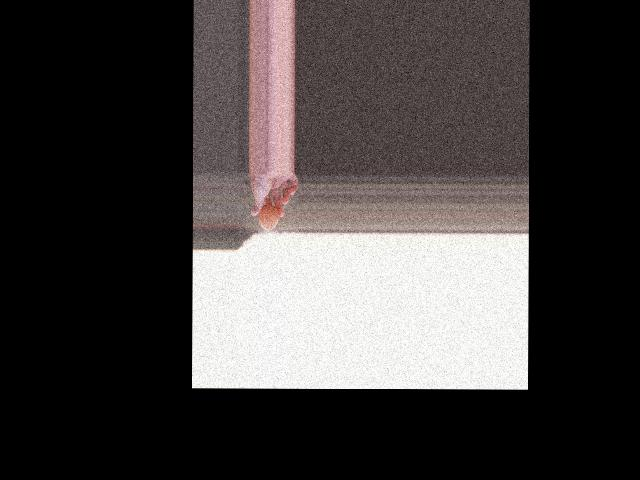egg: (258, 204, 279, 230)
